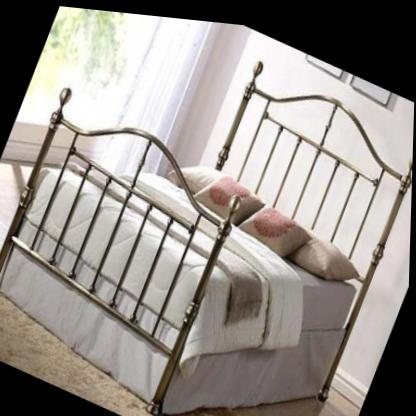Bed: (0, 89, 375, 413)
